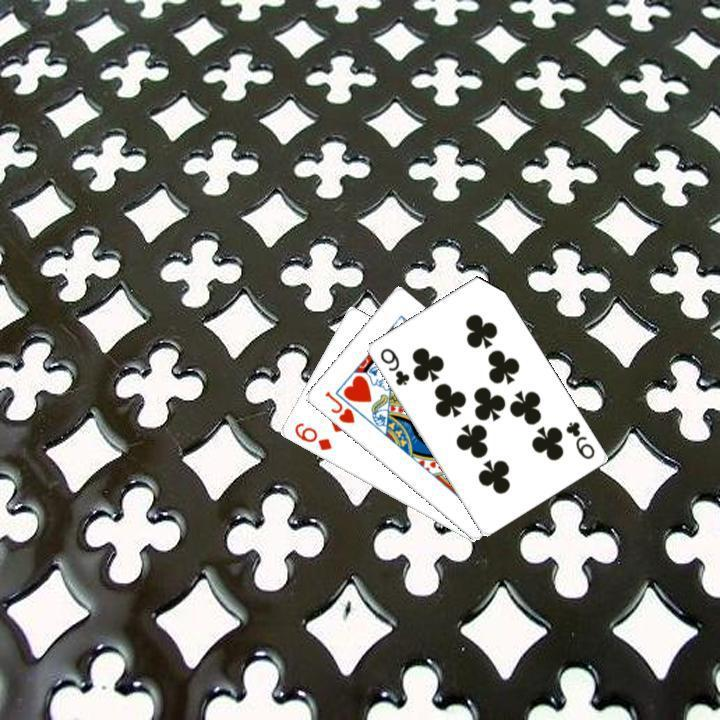6: (289, 418, 334, 453)
9: (375, 343, 411, 388), (561, 417, 596, 461)
J: (320, 387, 356, 426)
